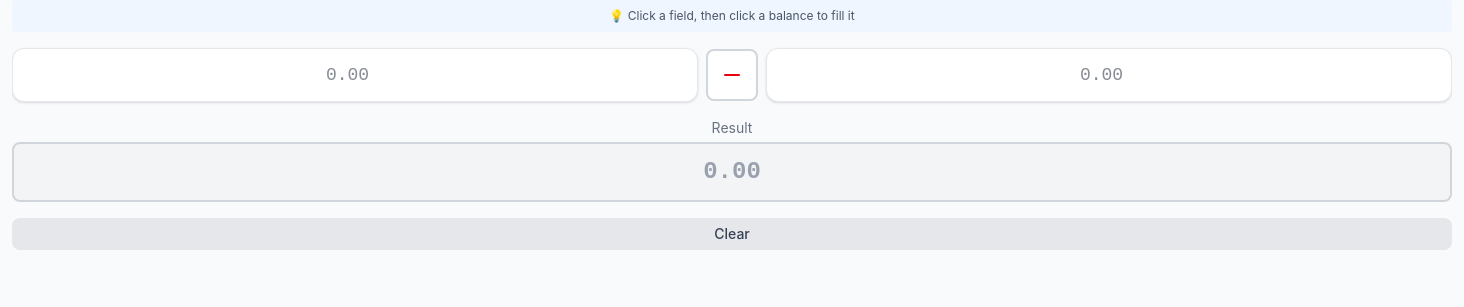
Test: QuickCalculator › adds the operands when the operator is toggled to addition
The image size is (1464, 307).
Step 1. Click the button named "switch to addition" → (732, 75), box [706,49,758,101]
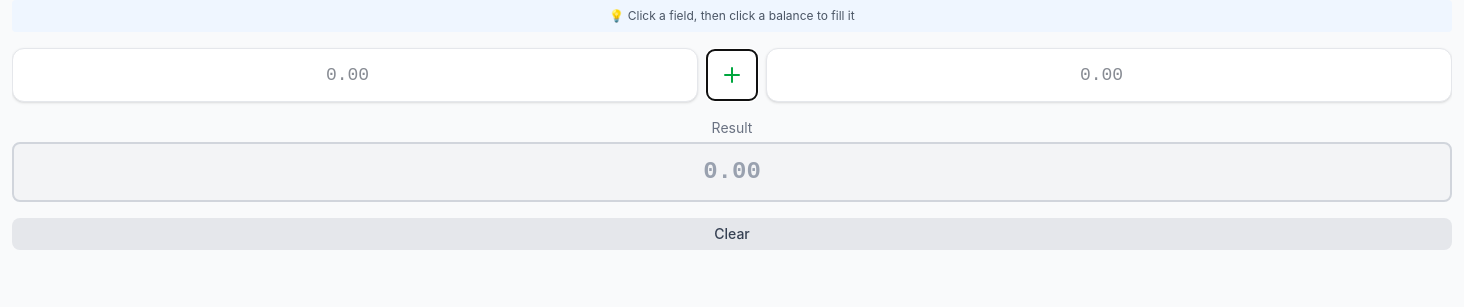
Step 2. Type "10" into the number field named "first operand" → (355, 75), box [12,48,698,102]
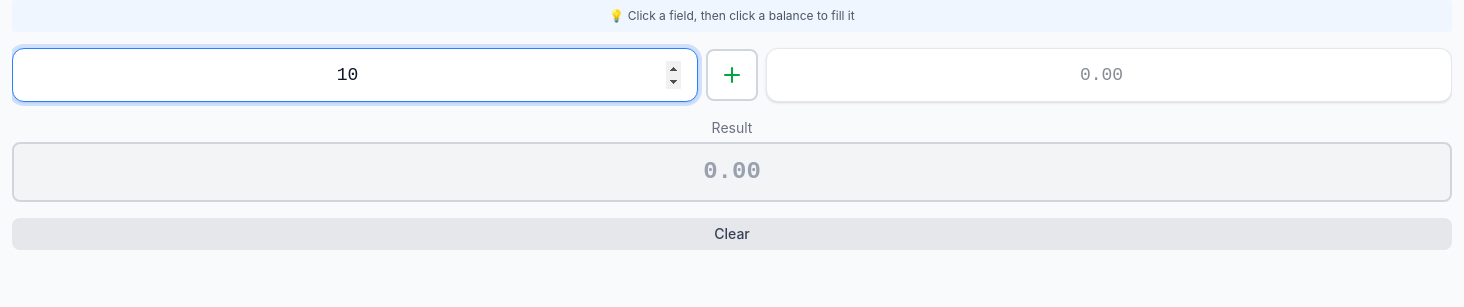
Step 3. Type "5" into the number field named "second operand" → (1109, 75), box [766,48,1452,102]
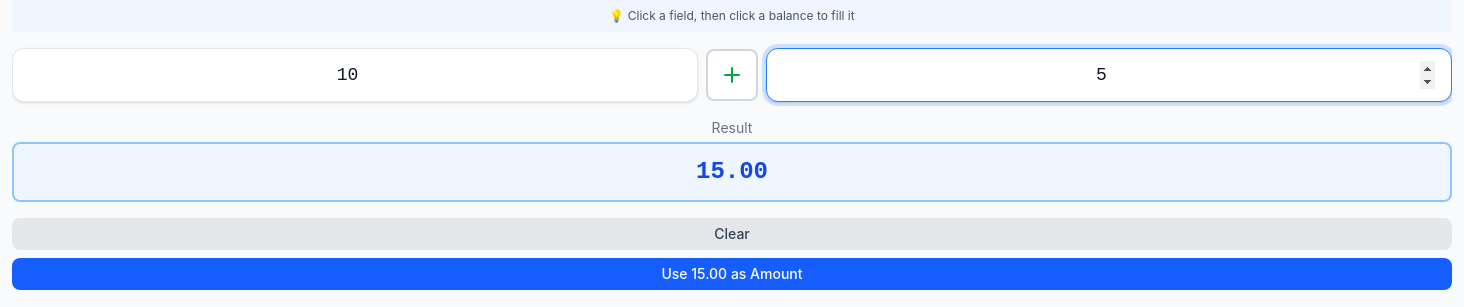
Expected: the button named "switch to subtraction" is shown, [706,49,758,101]
Expected: the text "15.00" is shown, [12,142,1452,202]
